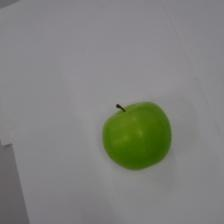green: (102, 100, 172, 171)
